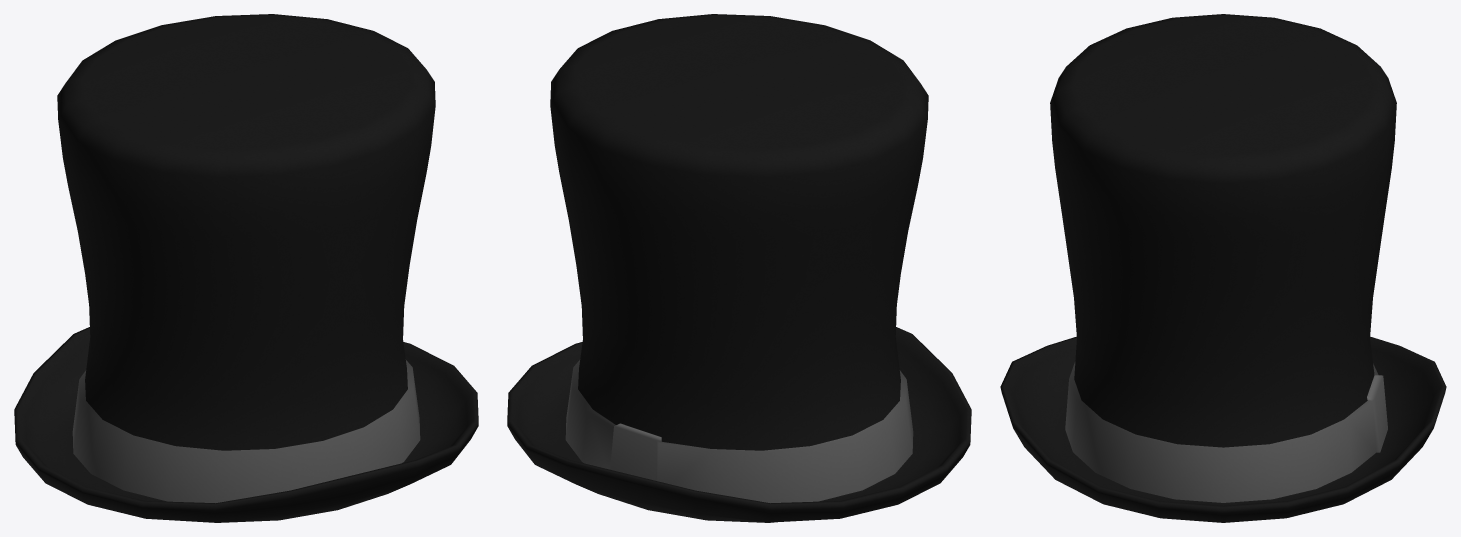
The model's file is TopHat.fbx.
3 renders of one model, left to right at view 1: azimuth 30°, elevation 25°; view 2: azimuth 150°, elevation 25°; view 3: azimuth 270°, elevation 25°, orthographic. The views are drawn at different scales.
Parts seen in each view (by area): view 1: TopHat1; view 2: TopHat1; view 3: TopHat1.
Part boxes in pixels (x1,y1,x2,y2): TopHat1: [14, 14, 478, 522]; TopHat1: [507, 14, 971, 522]; TopHat1: [1000, 14, 1446, 522].
Size of the model in its own units: 4.17 by 3.47 by 3.99.
Materials: 1 (1 with a texture image).
